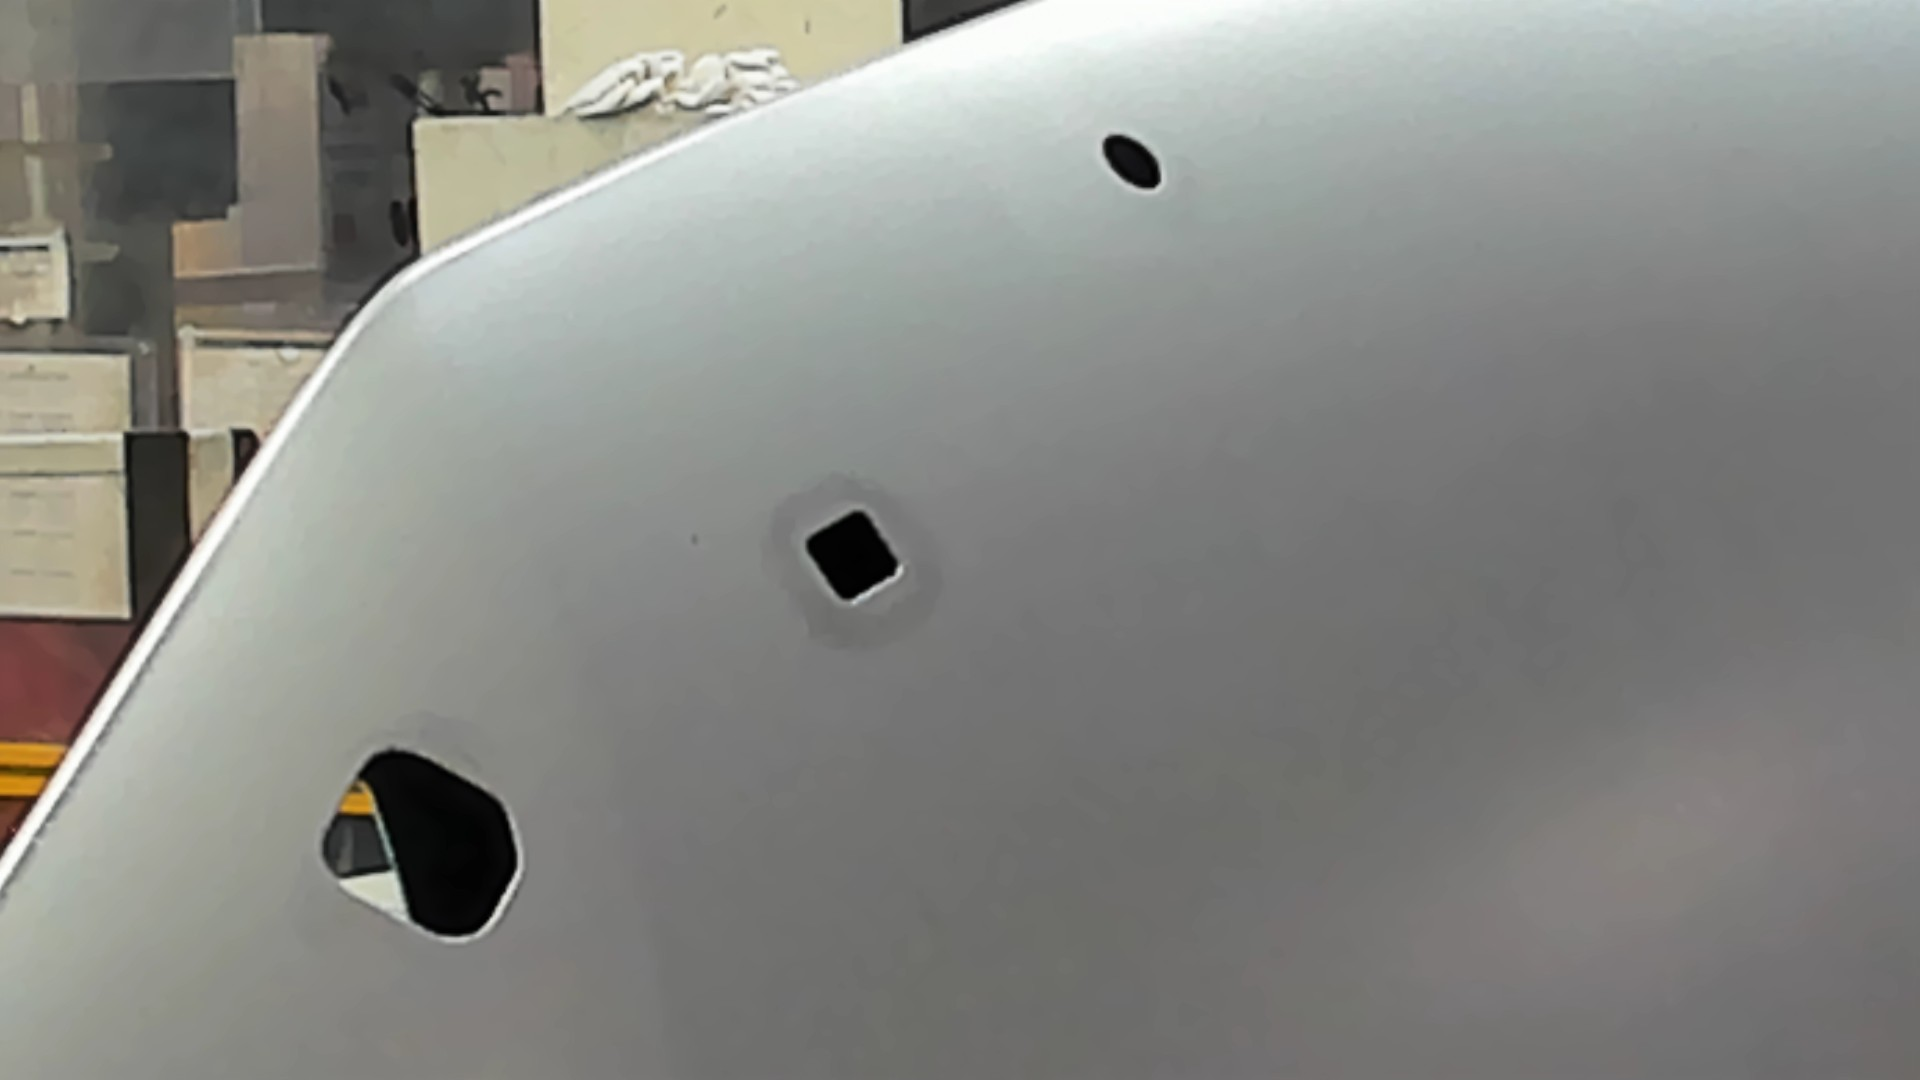capo: (911, 198, 1920, 1080)
chico: (1100, 127, 1168, 196)
grande: (314, 741, 529, 947)
mediano: (796, 500, 907, 609)
